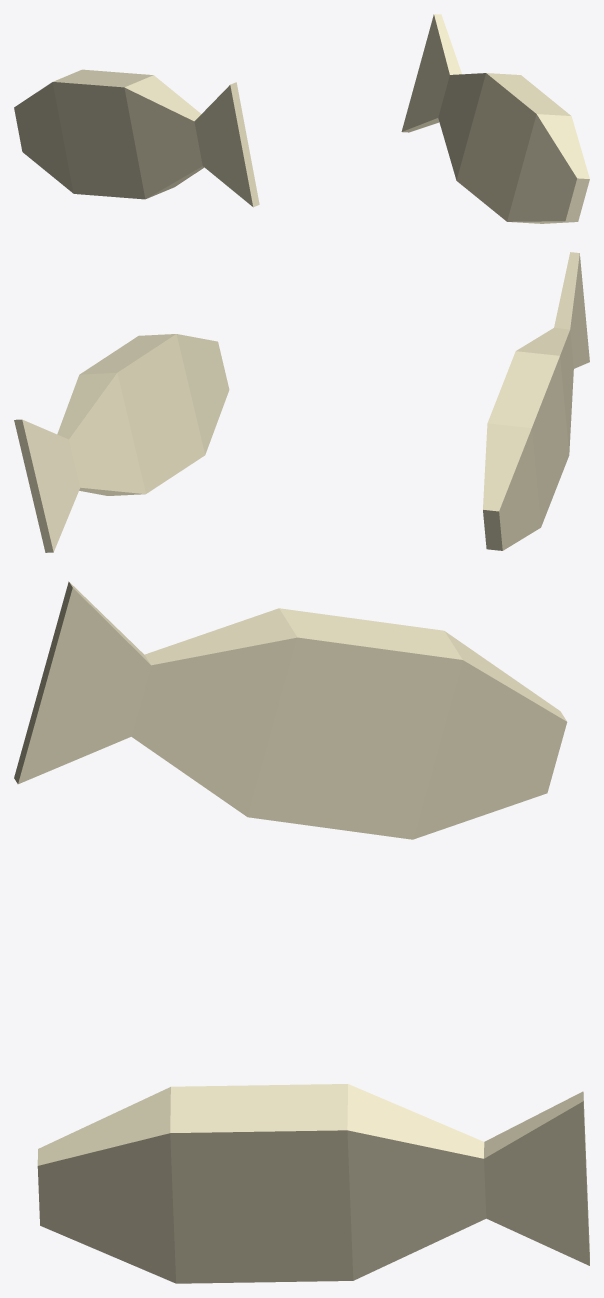
File: Fish-1.fbx
3 views of the same model, one above another, from view 1: azimuth 30°, elevation 25°; view 2: azimuth 150°, elevation 25°; view 3: azimuth 270°, elevation 25° (orthographic). The views are drawn at different scales.
Parts seen in each view (by area): view 1: Fish-1; view 2: Fish-1; view 3: Fish-1.
Boxes of the visible parts, box(x1,y1,x2,y2) form: Fish-1: box(14, 14, 589, 223); Fish-1: box(14, 252, 589, 552); Fish-1: box(14, 581, 589, 1283).
Bounding box in the file's own units: 51.71 × 27.38 × 34.2.
